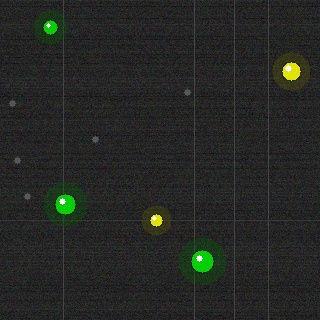green_normal: (189, 248, 215, 274), (53, 192, 77, 216), (41, 18, 59, 36)
yellow_warning: (280, 60, 302, 82), (148, 212, 164, 228)
